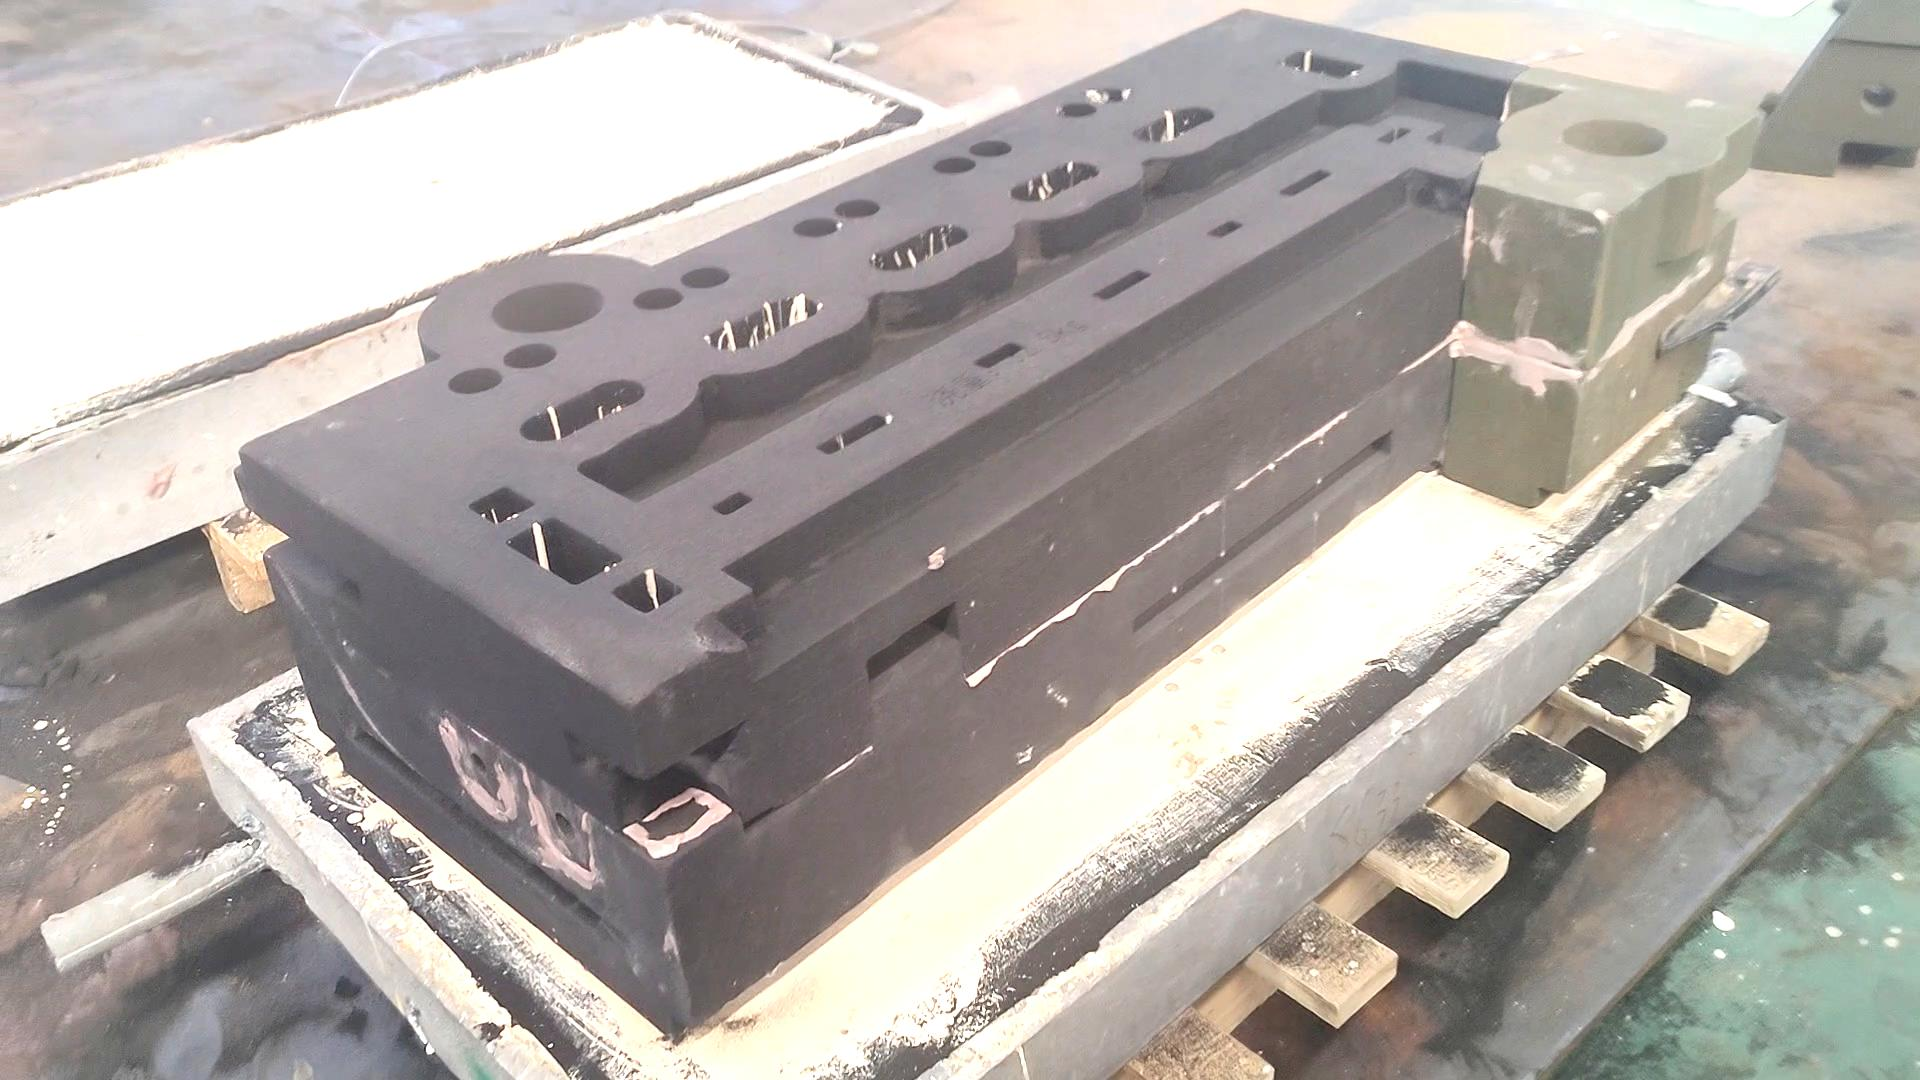pouring hole: (491, 281, 607, 335), (1560, 117, 1668, 160)
